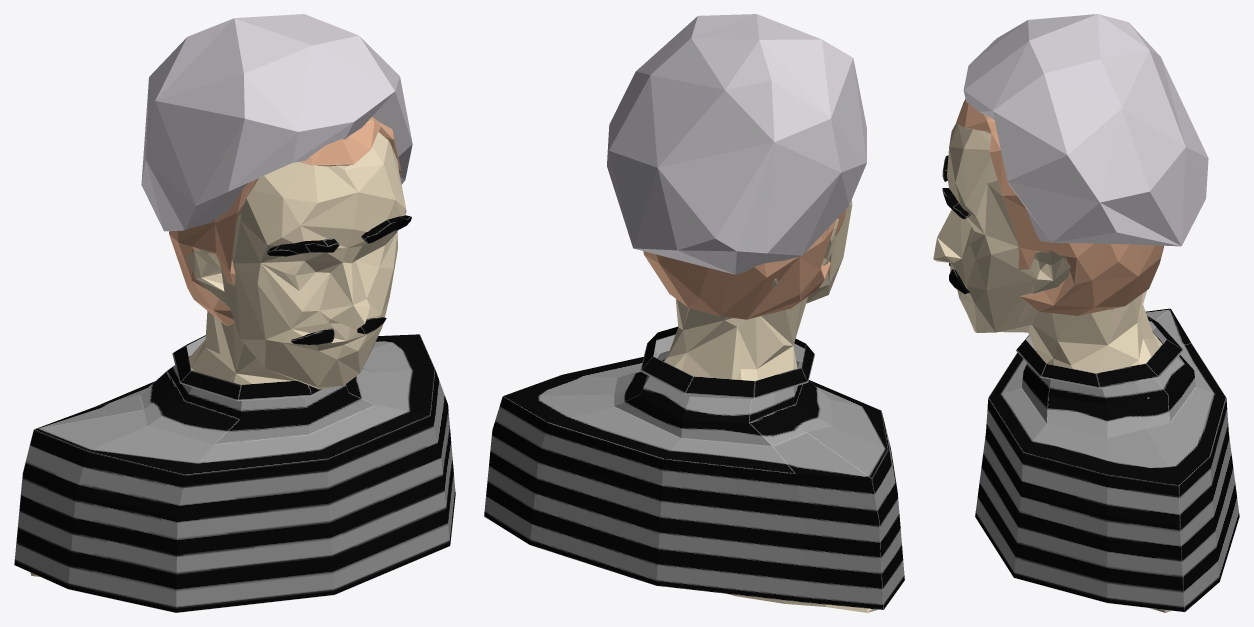
File: frenchy.glb
3 renders of one model, left to right at view 1: azimuth 30°, elevation 25°; view 2: azimuth 150°, elevation 25°; view 3: azimuth 270°, elevation 25°, orthographic. The views are drawn at different scales.
Parts seen in each view (by area): view 1: ???; view 2: ???; view 3: ???.
Boxes of the visible parts, x1=… form: ???: x1=14, y1=14, x2=455, y2=612; ???: x1=484, y1=14, x2=904, y2=612; ???: x1=933, y1=14, x2=1239, y2=612.
Bounding box in the file's own units: 1.71 × 2.11 × 1.18.
Materials: 1 (1 with a texture image).
